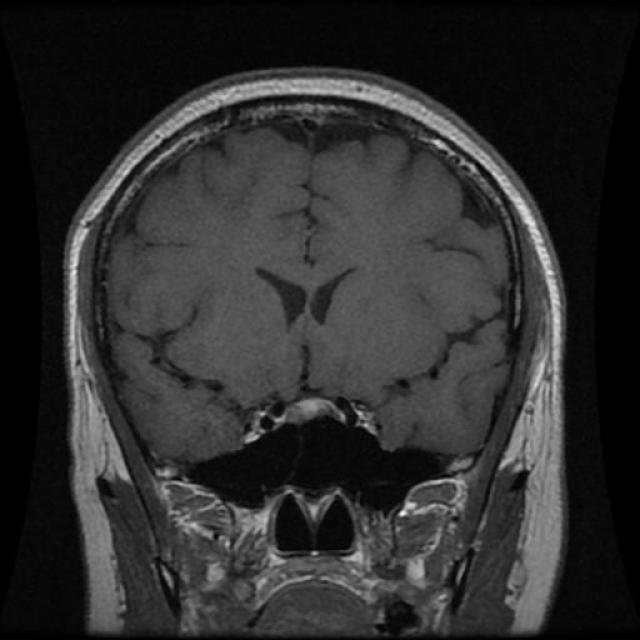pituitary: (239, 390, 385, 468)
